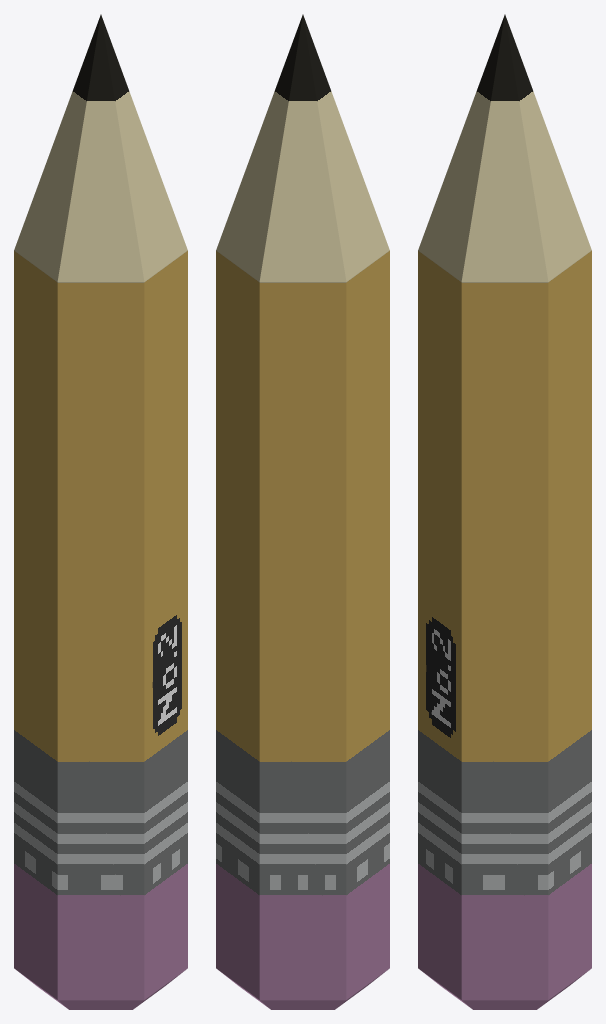
File: pencil.glb
3 renders of one model, left to right at view 1: azimuth 30°, elevation 25°; view 2: azimuth 150°, elevation 25°; view 3: azimuth 270°, elevation 25°, orthographic.
Parts seen in each view (by area): view 1: Cylinder; view 2: Cylinder; view 3: Cylinder.
Part boxes in pixels (box(x1,y1,x2,y2)): Cylinder: box(14, 14, 187, 1009); Cylinder: box(216, 14, 389, 1009); Cylinder: box(418, 14, 591, 1009).
Bounding box in the file's own units: 0.6582 × 4.69 × 0.76.
Materials: 1 (1 with a texture image).
